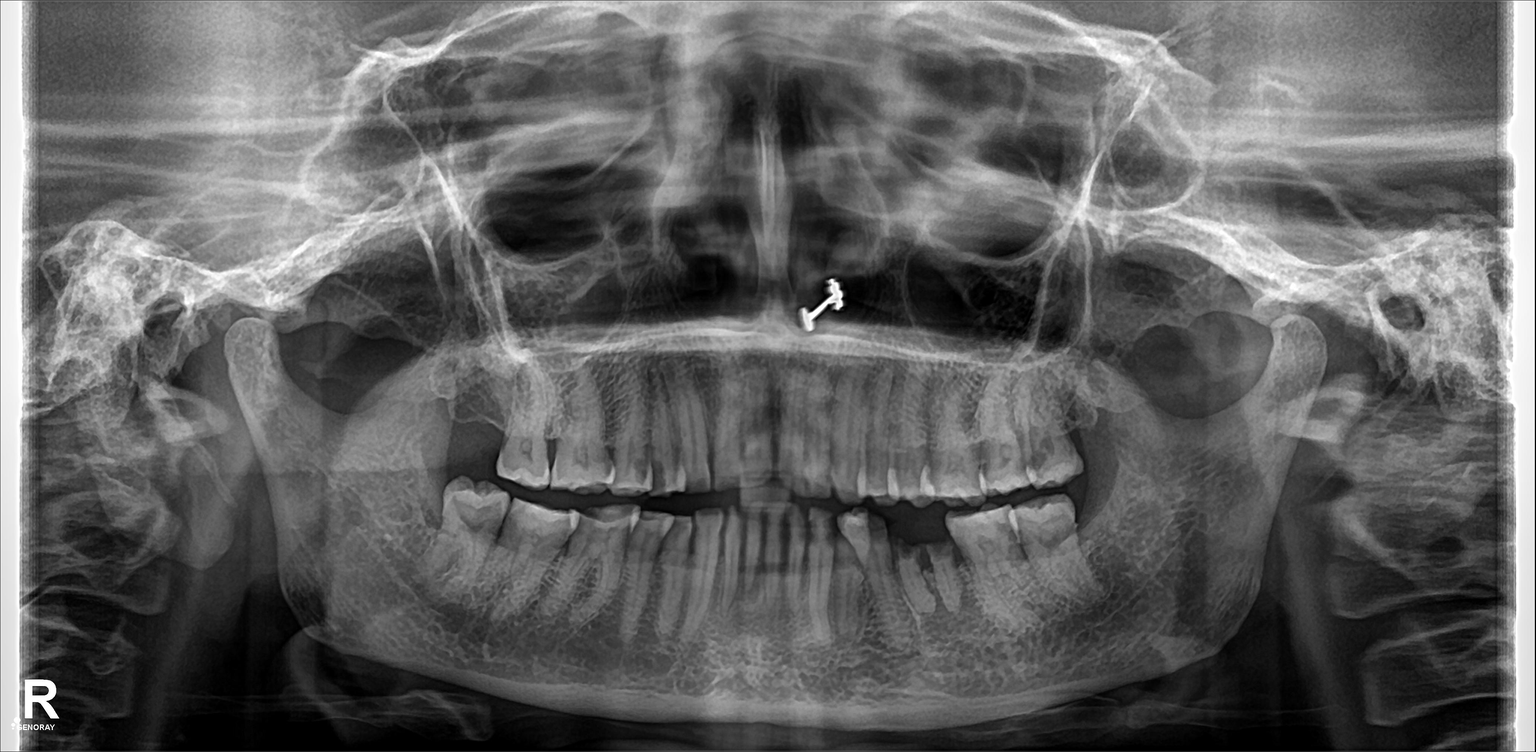Dental Caries: (957, 430, 994, 474)
Missing Tooth: (458, 369, 510, 469), (1080, 367, 1120, 474)
Retained Root: (886, 536, 925, 617), (929, 530, 965, 615)
